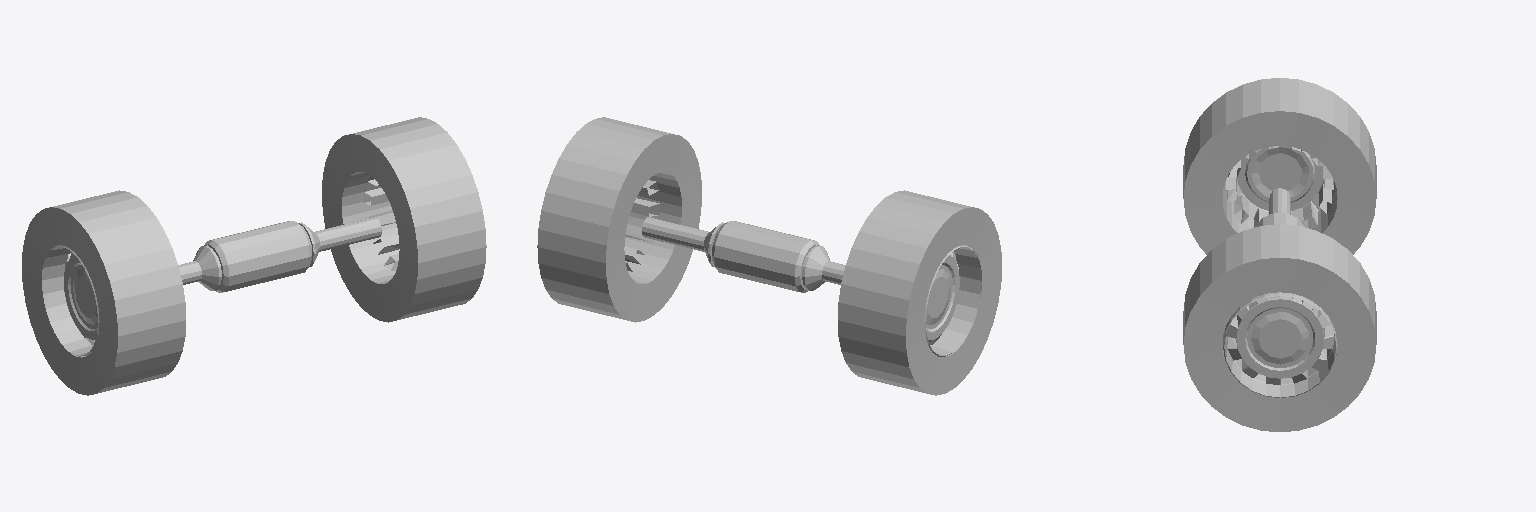
File: LKW_Backwheelsection.obj
3 renders of one model, left to right at view 1: azimuth 30°, elevation 25°; view 2: azimuth 150°, elevation 25°; view 3: azimuth 270°, elevation 25°, orthographic.
Bounding box in the file's own units: 3.01 × 1.35 × 1.35.